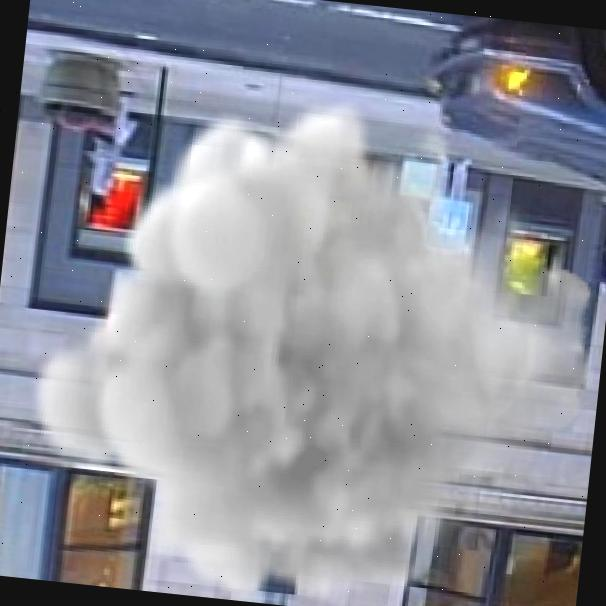smoke: (6, 67, 606, 606)
